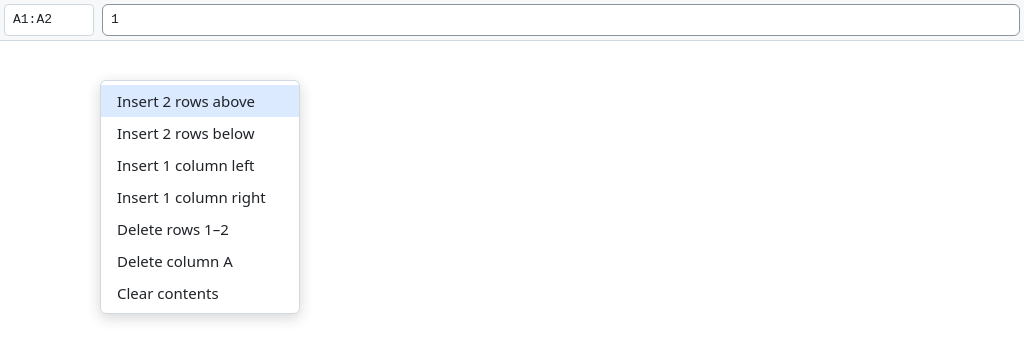
context menu › Clear contents clears the selection in one transaction
What coordinates should you click on to do the following:
click the menu item with test id "menu-clear"
I would click on:
 (200, 293)
Its box is [101,277,299,309].
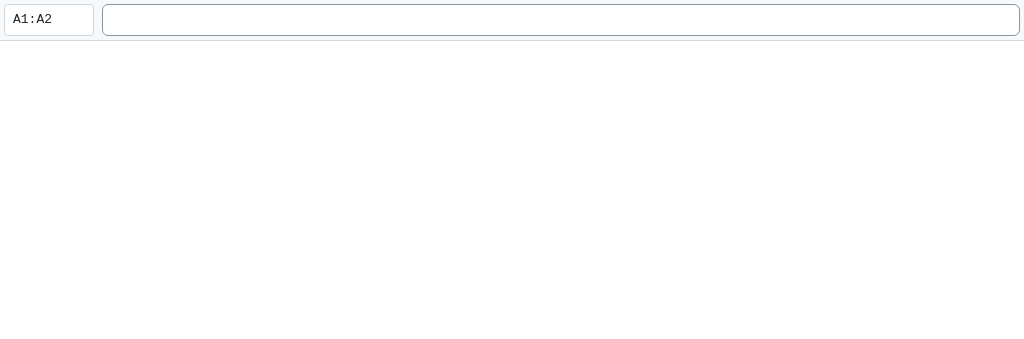
Now the menu with test id "grid-context-menu" is gone
